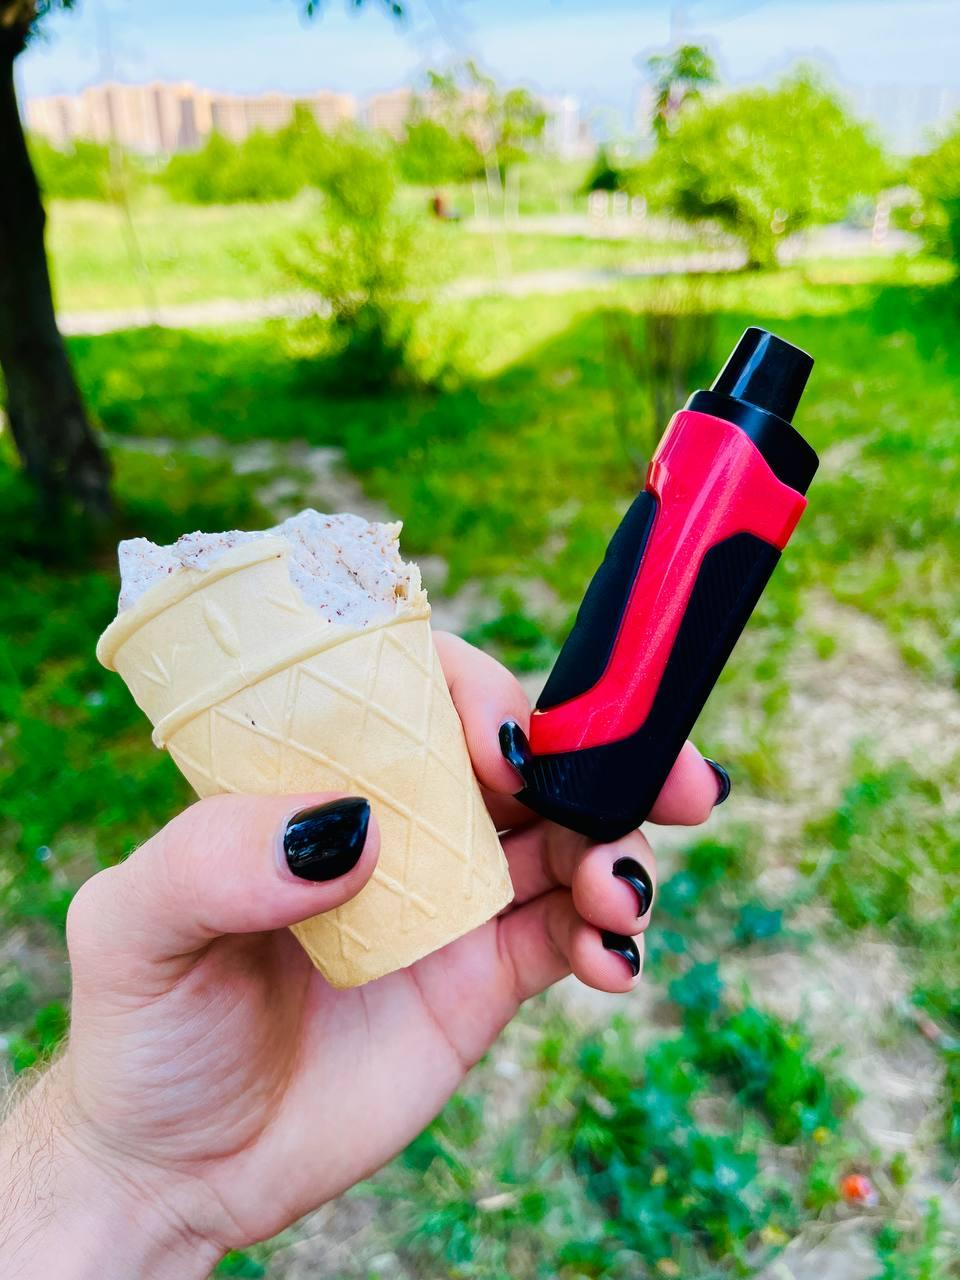Vape: (500, 328, 817, 840)
